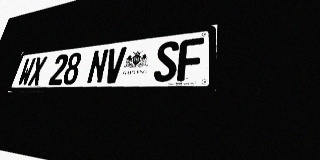2: (48, 53, 69, 85)
8: (61, 52, 83, 85)
F: (177, 37, 204, 81)
N: (86, 49, 109, 84)
S: (153, 40, 179, 82)
V: (103, 47, 127, 83)
W: (17, 57, 36, 86)
X: (27, 56, 48, 86)
